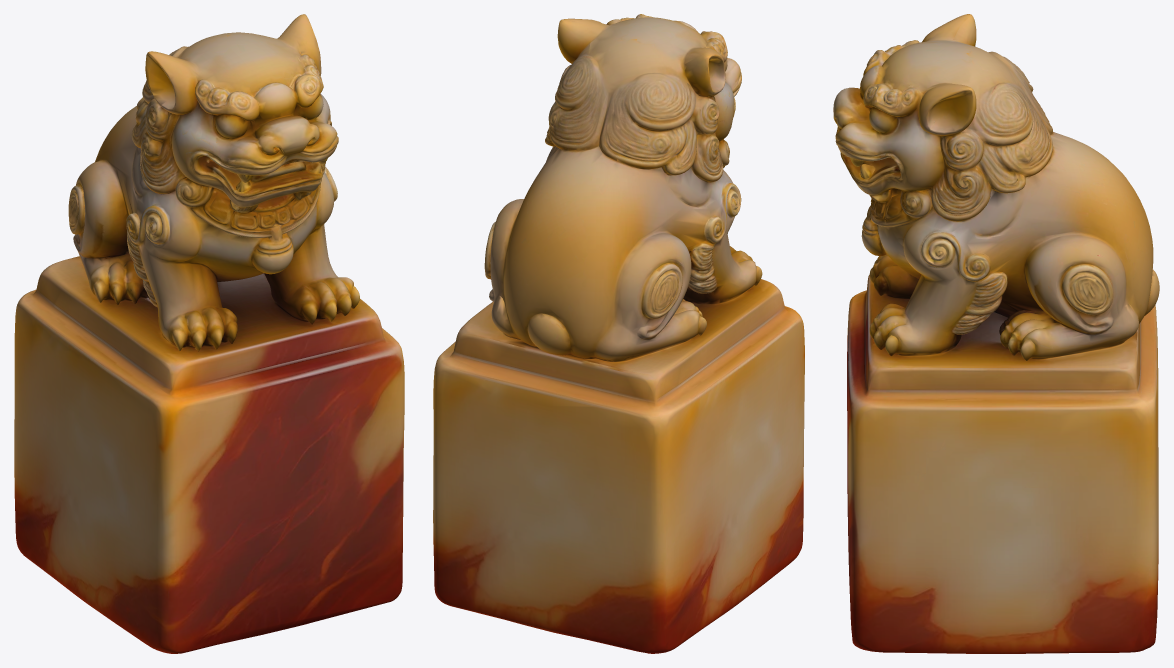
Rendered from seal.glb.
The picture shows the model from 3 angles, left to right: view 1: azimuth 30°, elevation 25°; view 2: azimuth 150°, elevation 25°; view 3: azimuth 270°, elevation 25°; orthographic projection. The views are drawn at different scales.
Visible parts, largest first — view 1: pivot; view 2: pivot; view 3: pivot.
Part boxes in pixels (x1,y1,x2,y2): pivot: [14, 14, 404, 653]; pivot: [433, 14, 804, 653]; pivot: [833, 14, 1159, 653].
Size of the model in its own units: 0.2978 by 0.62 by 0.3354.
1 material, 1 textured.
